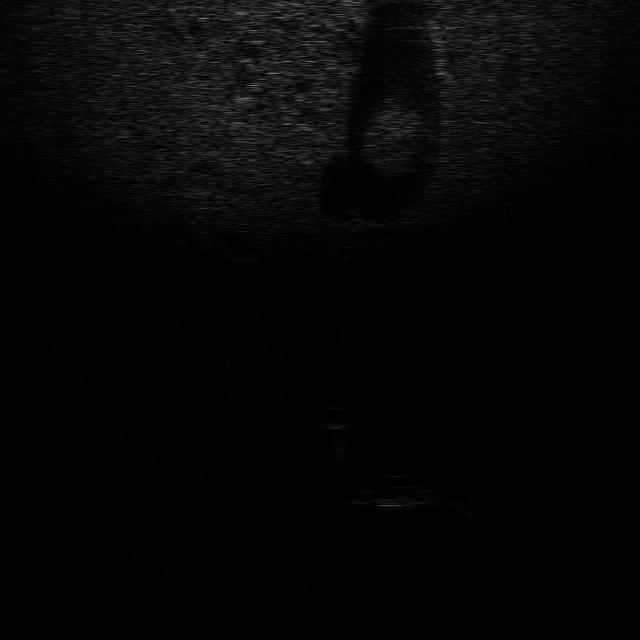ball: (310, 403, 359, 431)
tyre: (347, 473, 435, 510)
